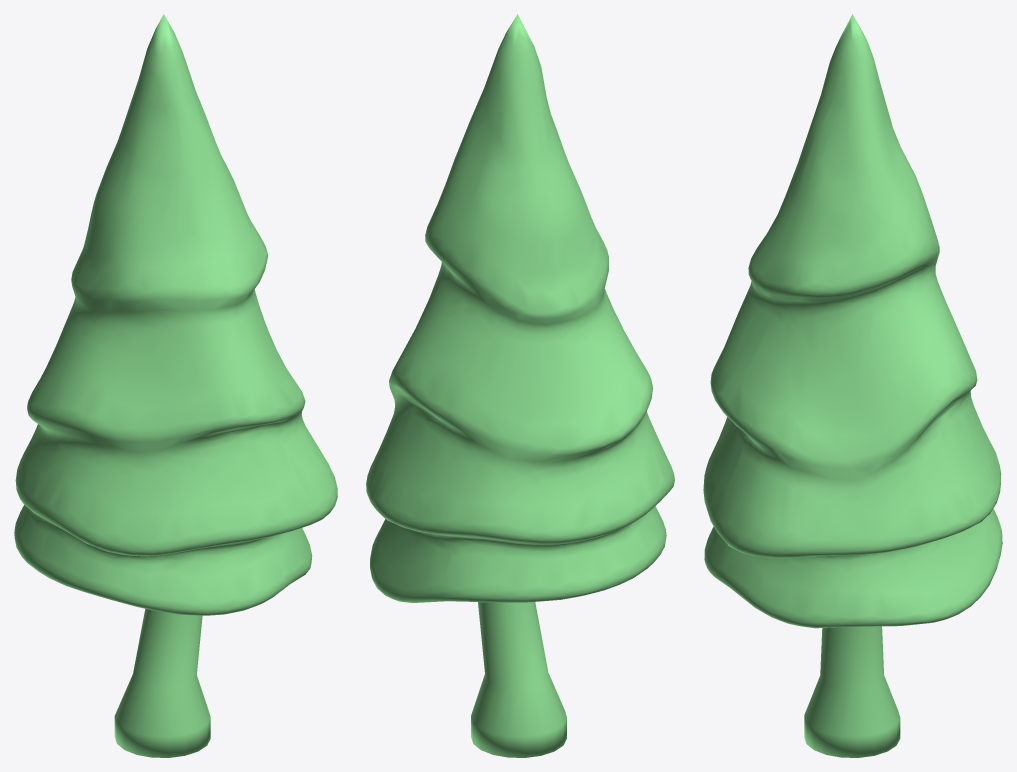
File: Tree3.fbx
3 views of the same model, side by side, from view 1: azimuth 30°, elevation 25°; view 2: azimuth 150°, elevation 25°; view 3: azimuth 270°, elevation 25° (orthographic).
Visible parts, largest first — view 1: Tree3; view 2: Tree3; view 3: Tree3.
Part boxes in pixels (bbox=[...]): Tree3: bbox=[14, 14, 337, 757]; Tree3: bbox=[366, 14, 674, 757]; Tree3: bbox=[703, 14, 1002, 757].
Bounding box in the file's own units: 9.94 × 25.64 × 9.6.
